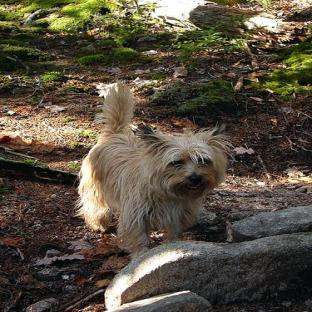Animal: (76, 82, 231, 258)
